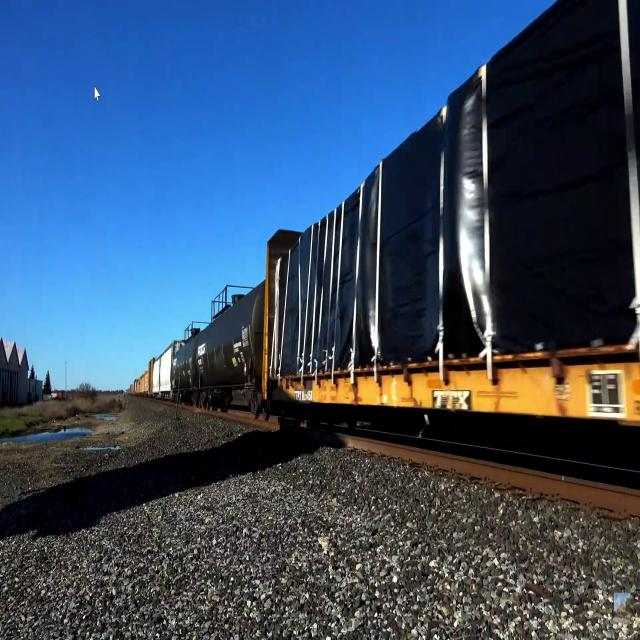cargo: (269, 0, 640, 381)
flatcar_bulkhead: (260, 216, 640, 482)
tank: (196, 275, 266, 422), (169, 318, 200, 408)
